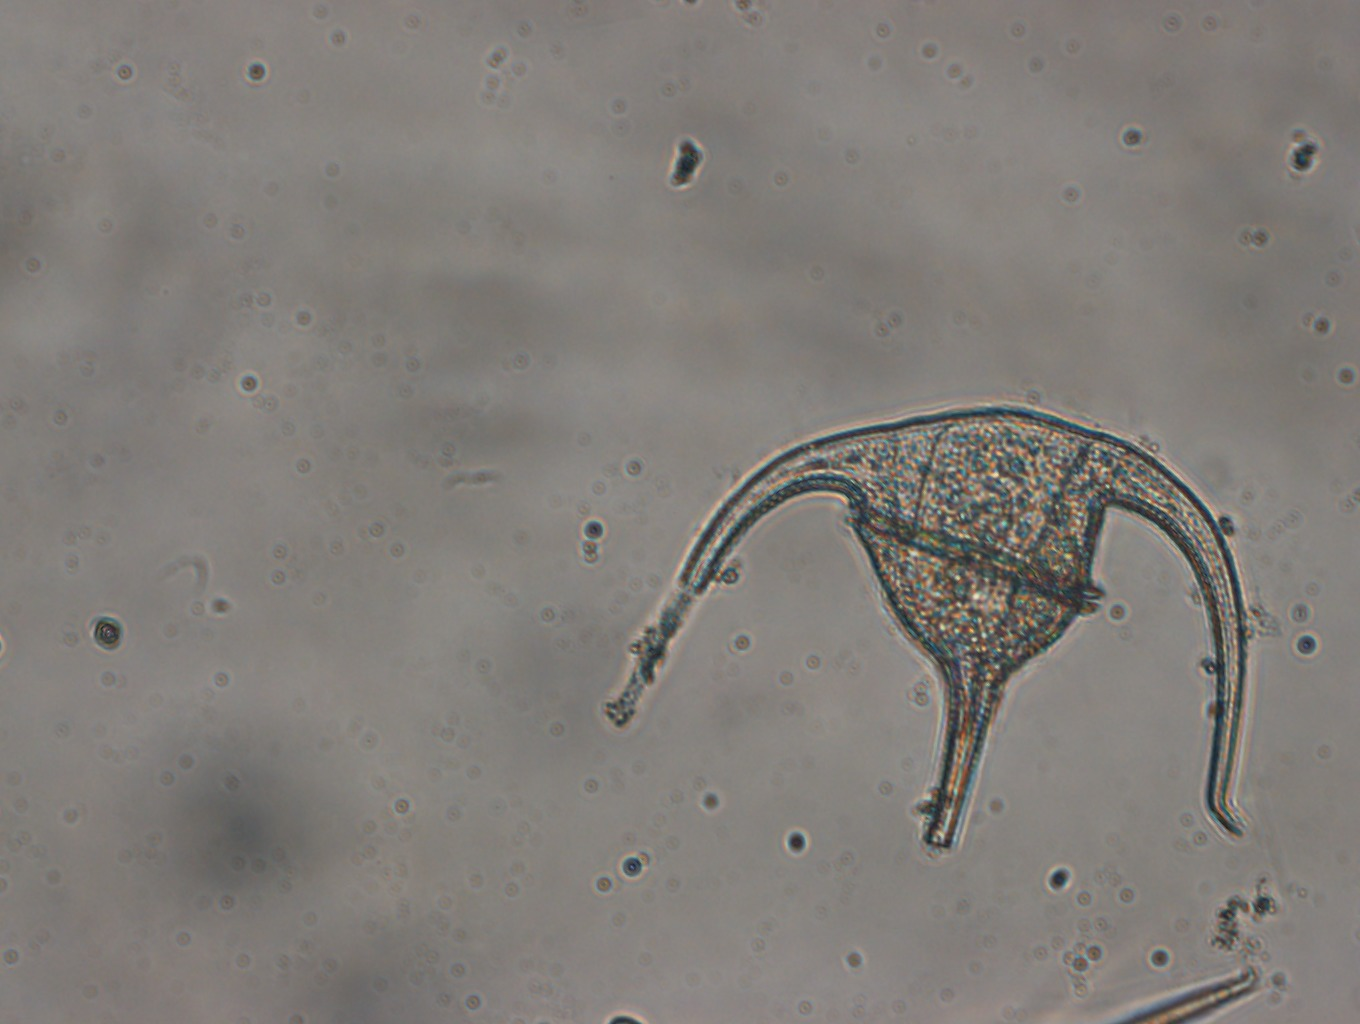ceratium tripos: (674, 403, 1246, 858)
